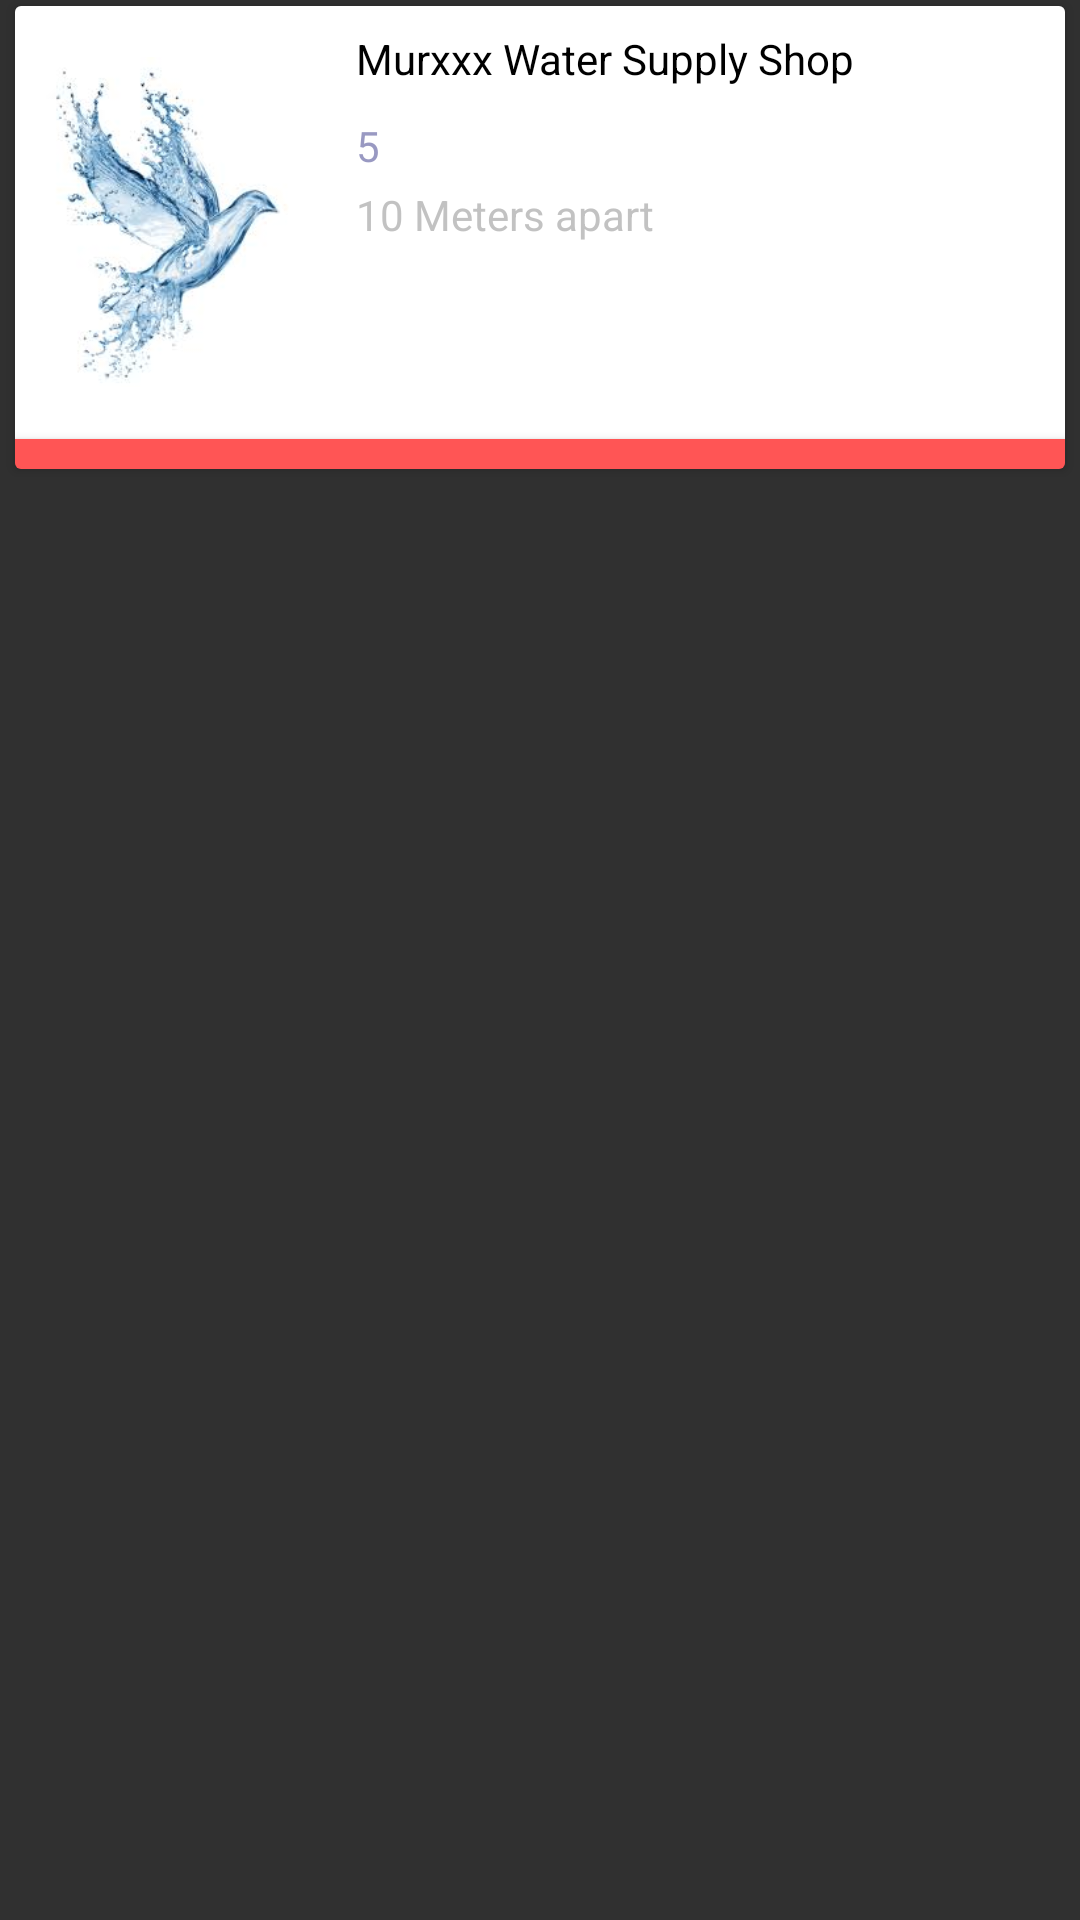

Screen size 1080*1920. Icon name, then its center in pixels as (x,y):
images: (167,224)
